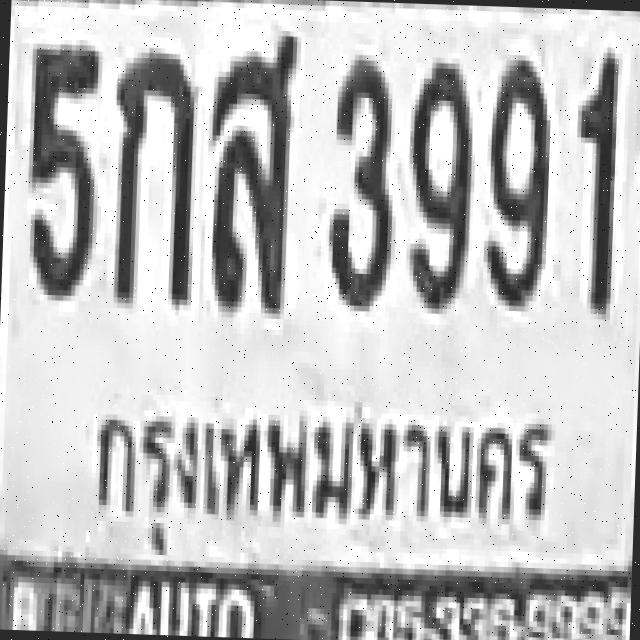0: (404, 56, 471, 308), (482, 54, 548, 306)
1: (568, 52, 616, 308)
10GorGai: (108, 46, 194, 299)
3: (322, 53, 393, 306)
49SorSuea: (202, 28, 294, 308)
5: (20, 38, 95, 296)
9: (404, 56, 471, 308), (482, 54, 548, 306)
Bangkok: (75, 384, 566, 570)
